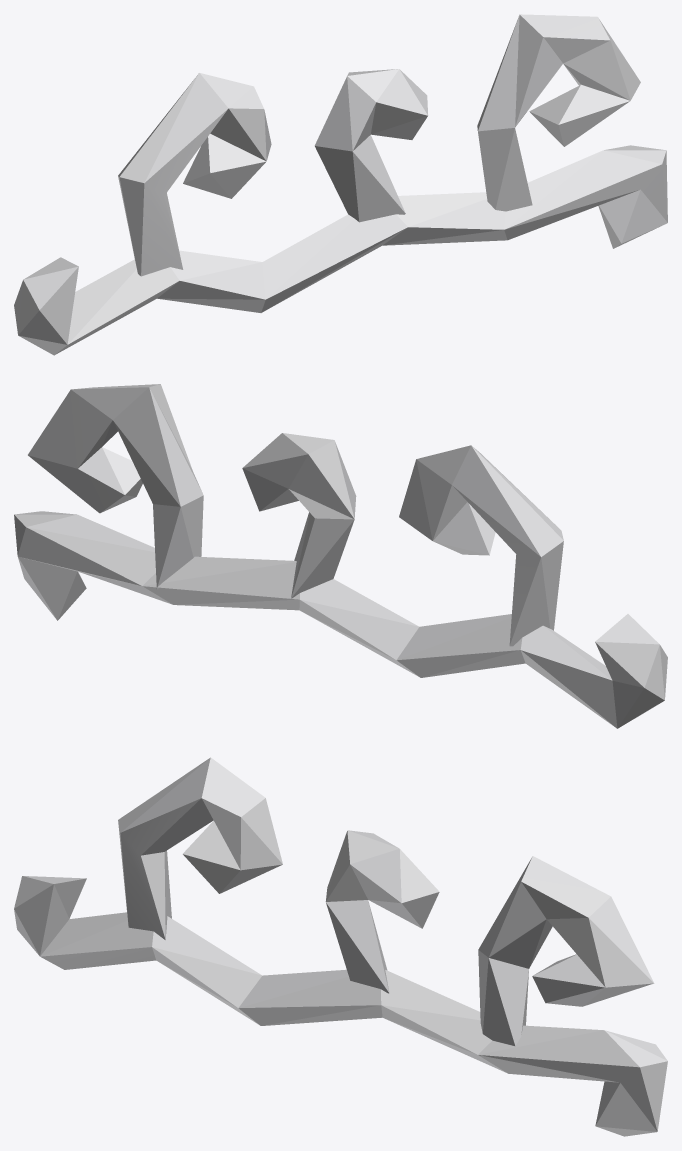
File: stylize_cloud_19.fbx
3 views of the same model, one above another, from view 1: azimuth 30°, elevation 25°; view 2: azimuth 150°, elevation 25°; view 3: azimuth 330°, elevation 25° (orthographic).
Visible parts, largest first — view 1: cloud_100; view 2: cloud_100; view 3: cloud_100.
Part boxes in pixels (x1,y1,x2,y2): cloud_100: [14, 14, 667, 355]; cloud_100: [14, 384, 667, 728]; cloud_100: [14, 757, 667, 1136].
Size of the model in its own units: 697 by 284 by 51.26.
